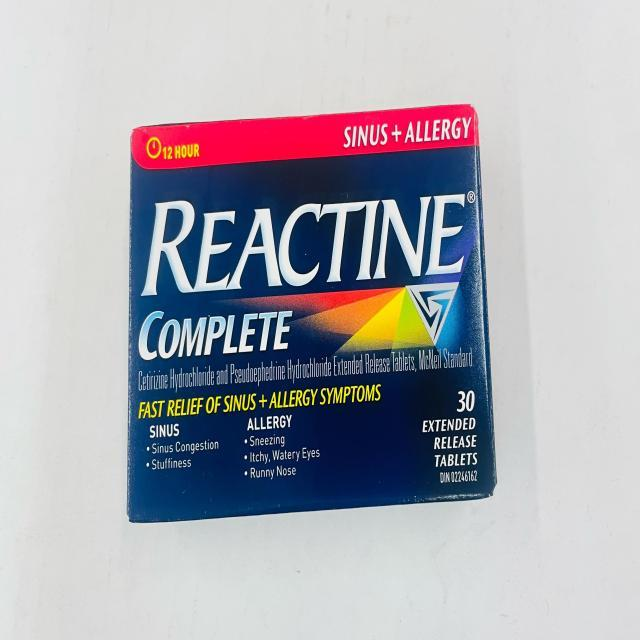Medicine Name: (141, 191, 466, 300)
